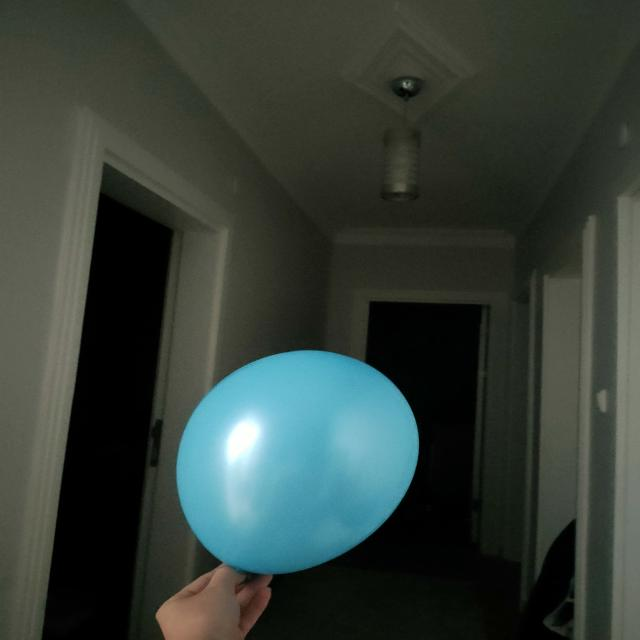blue: (177, 351, 422, 575)
